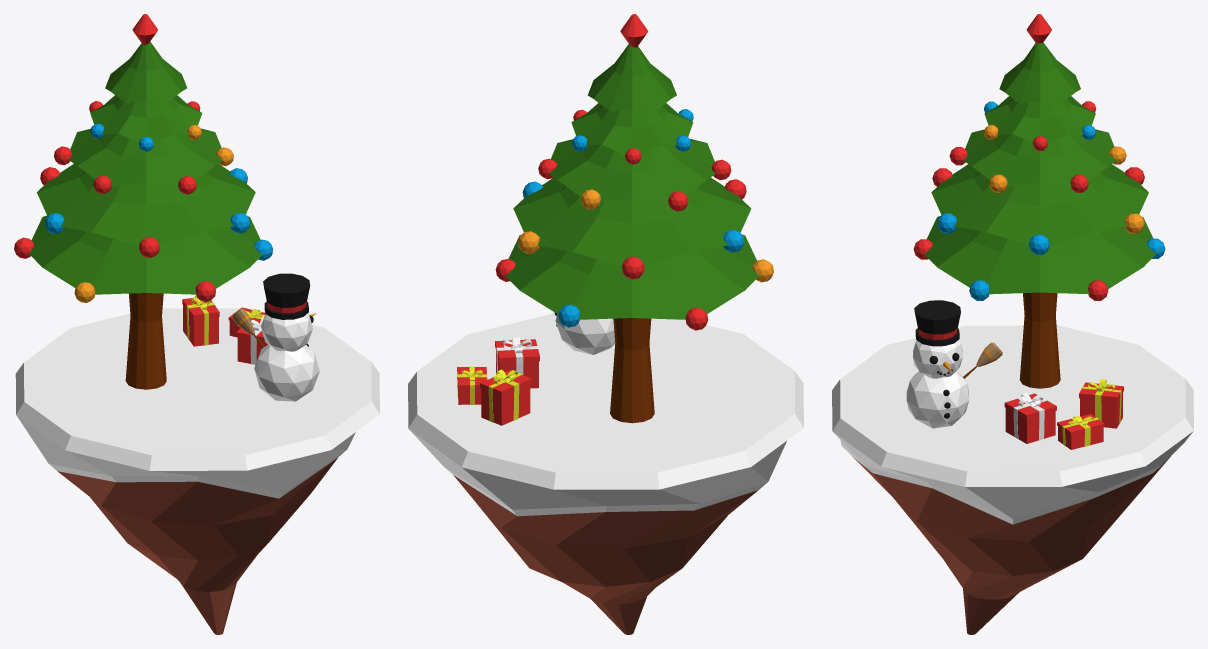
The picture shows the model from 3 angles, left to right: view 1: azimuth 30°, elevation 25°; view 2: azimuth 150°, elevation 25°; view 3: azimuth 270°, elevation 25°; orthographic projection. The views are drawn at different scales.
Visible parts, largest first — view 1: Island, Tree, Snowman, Gift2.001, Gift1; view 2: Island, Tree, Gift2.001, Snowman, Gift1, Gift2; view 3: Island, Tree, Snowman, Gift1, Gift2.001, Gift2.
Part boxes in pixels (left/top/right/bottom): Island: left=15, top=308, right=379, bottom=634; Tree: left=14, top=14, right=273, bottom=389; Snowman: left=232, top=273, right=319, bottom=401; Gift2.001: left=182, top=295, right=219, bottom=346; Gift1: left=236, top=316, right=267, bottom=364; Island: left=408, top=313, right=803, bottom=634; Tree: left=495, top=14, right=773, bottom=423; Gift2.001: left=480, top=369, right=531, bottom=425; Snowman: left=554, top=312, right=615, bottom=354; Gift1: left=495, top=337, right=539, bottom=388; Gift2: left=457, top=366, right=487, bottom=404; Island: left=832, top=325, right=1193, bottom=634; Tree: left=913, top=14, right=1165, bottom=388; Snowman: left=906, top=300, right=1002, bottom=428; Gift1: left=1004, top=393, right=1056, bottom=443; Gift2.001: left=1079, top=379, right=1123, bottom=428; Gift2: left=1057, top=414, right=1104, bottom=449.
Bounding box in the file's own units: 4.48 × 8.18 × 4.48.
Materials: 1 (1 with a texture image).
